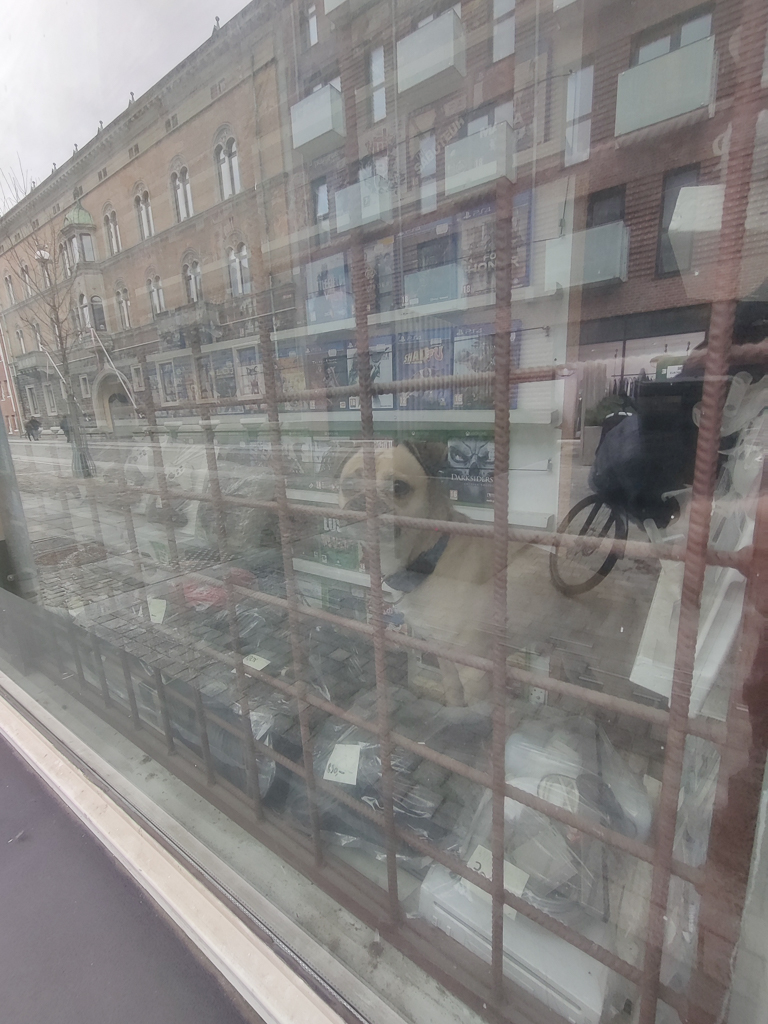Dog: (302, 427, 678, 749)
